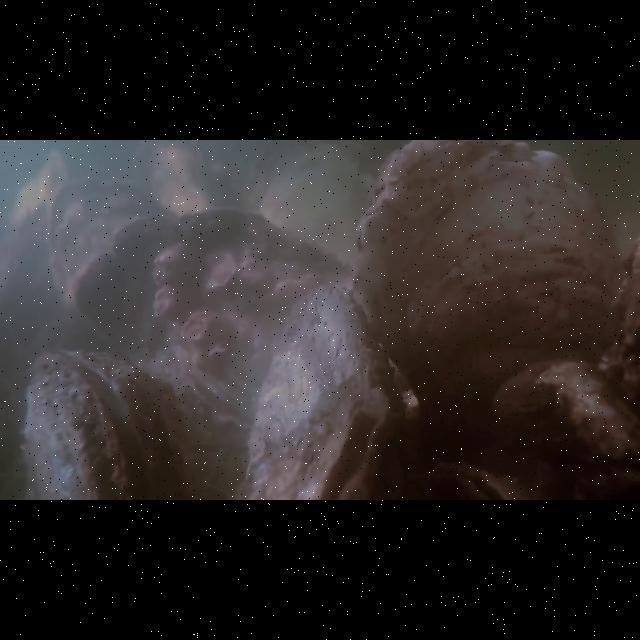Oyster-Closed: (349, 143, 621, 406), (70, 207, 352, 432), (246, 283, 399, 497), (45, 177, 178, 309), (242, 144, 361, 252), (133, 146, 245, 214), (431, 457, 526, 500)
Oyster-Open: (19, 346, 199, 500)
